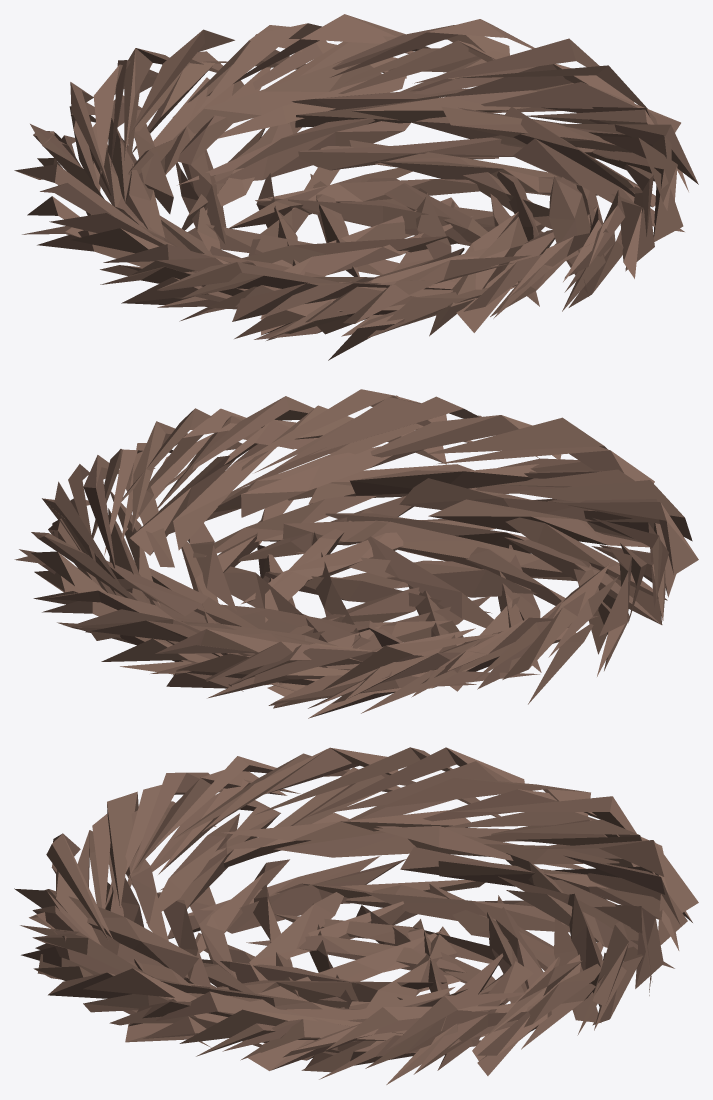
File: Nest_00.fbx
The picture shows the model from 3 angles, top to bottom: view 1: azimuth 30°, elevation 25°; view 2: azimuth 150°, elevation 25°; view 3: azimuth 270°, elevation 25°; orthographic projection.
Parts seen in each view (by area): view 1: Nest_04_LOD2; view 2: Nest_04_LOD2; view 3: Nest_04_LOD2.
Boxes of the visible parts, box(x1,y1,x2,y2) form: Nest_04_LOD2: box(14, 14, 698, 360); Nest_04_LOD2: box(14, 389, 698, 718); Nest_04_LOD2: box(14, 747, 698, 1084).
Bounding box in the file's own units: 68.93 × 12.65 × 69.75.
